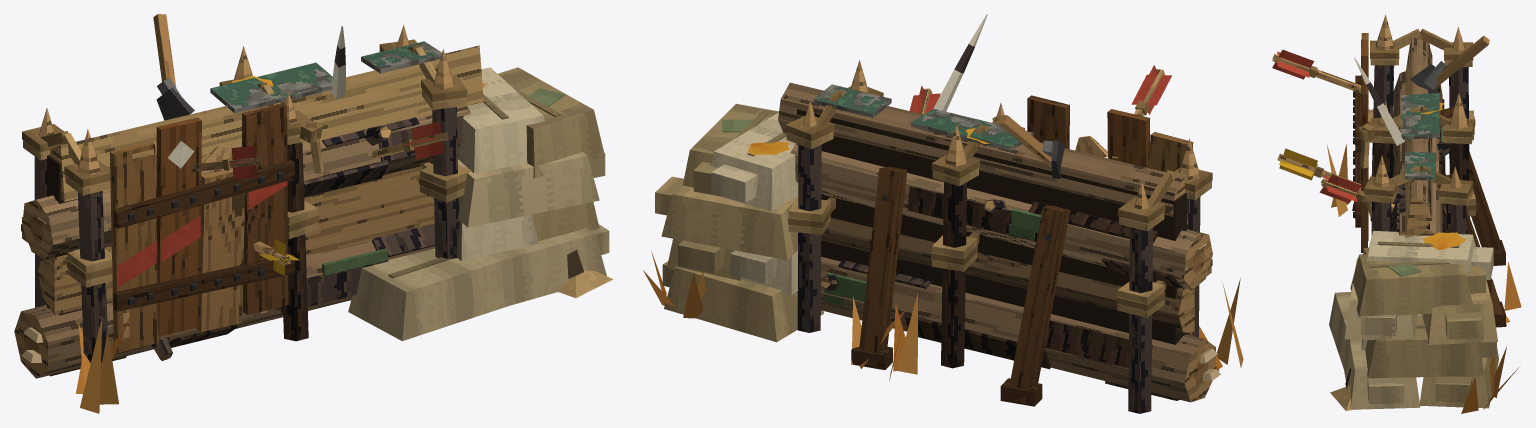
Rendered from fp_cover_logs.glb.
3 views of the same model, side by side, from view 1: azimuth 30°, elevation 25°; view 2: azimuth 150°, elevation 25°; view 3: azimuth 270°, elevation 25° (orthographic). The views are drawn at different scales.
Visible parts, largest first — view 1: fp_cover_logs, deco_arrows, deco_grass; view 2: fp_cover_logs, deco_grass, deco_arrows; view 3: fp_cover_logs, deco_arrows, deco_grass.
Part boxes in pixels (box(x1,y1,x2,y2)): fp_cover_logs: box(14, 25, 613, 378); deco_arrows: box(153, 14, 452, 275); deco_grass: box(75, 75, 484, 413); fp_cover_logs: box(655, 60, 1220, 413); deco_grass: box(643, 128, 1243, 380); deco_arrows: box(909, 14, 1171, 178); fp_cover_logs: box(1329, 14, 1505, 410); deco_arrows: box(1272, 36, 1489, 212); deco_grass: box(1326, 102, 1521, 413).
Bounding box in the file's own units: 2.65 × 1.44 × 1.29.
Materials: 42 (32 with a texture image).
